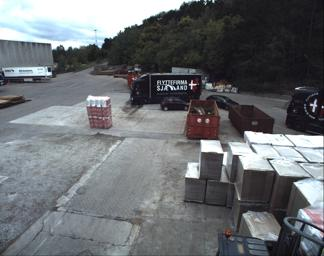rockwool_batts: (296, 205, 323, 254), (86, 94, 110, 127)
